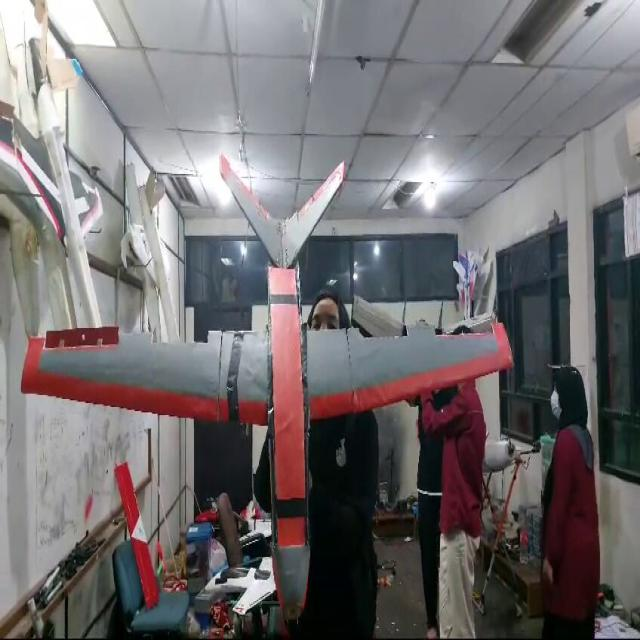plane: (19, 151, 514, 632)
